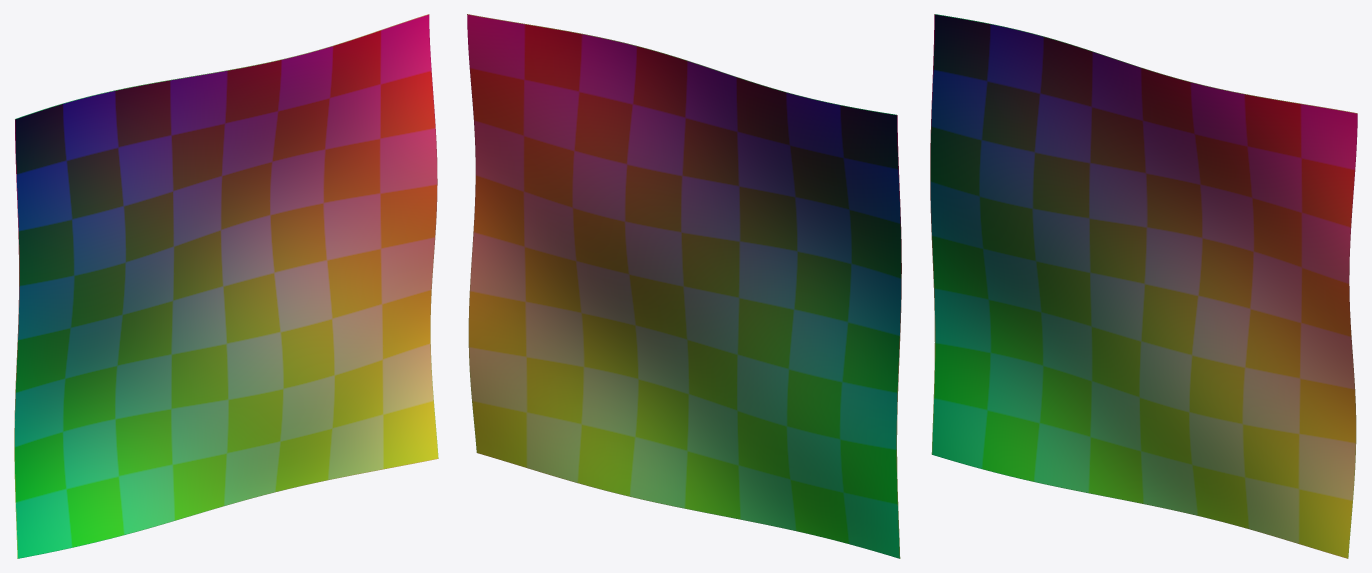
File: Tile_+024_+018.obj
3 renders of one model, left to right at view 1: azimuth 30°, elevation 25°; view 2: azimuth 150°, elevation 25°; view 3: azimuth 330°, elevation 25°, orthographic.
Size of the model in its own units: 100 by 100 by 5.59.
